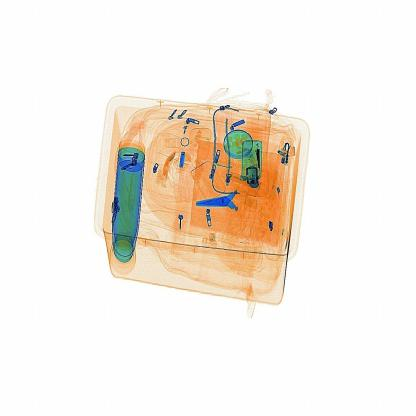gun: (196, 180, 254, 226)
